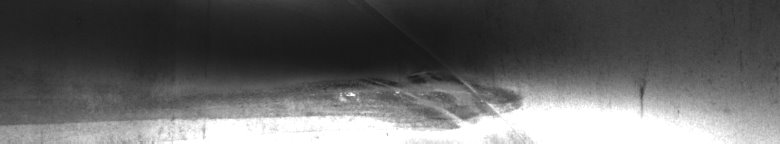ke: (4, 72, 524, 132)
